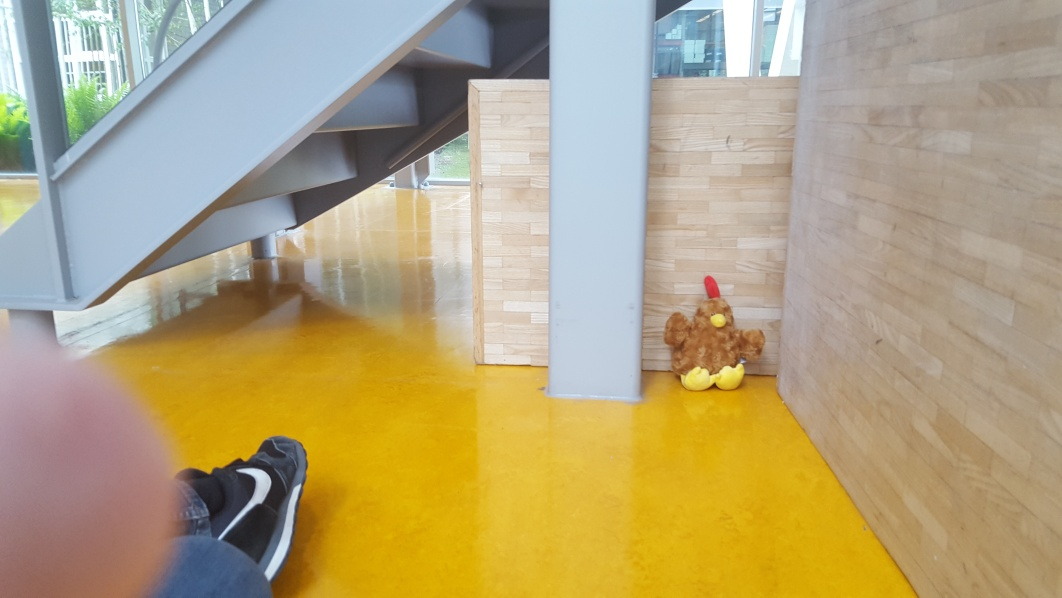chicken: (663, 277, 766, 397)
